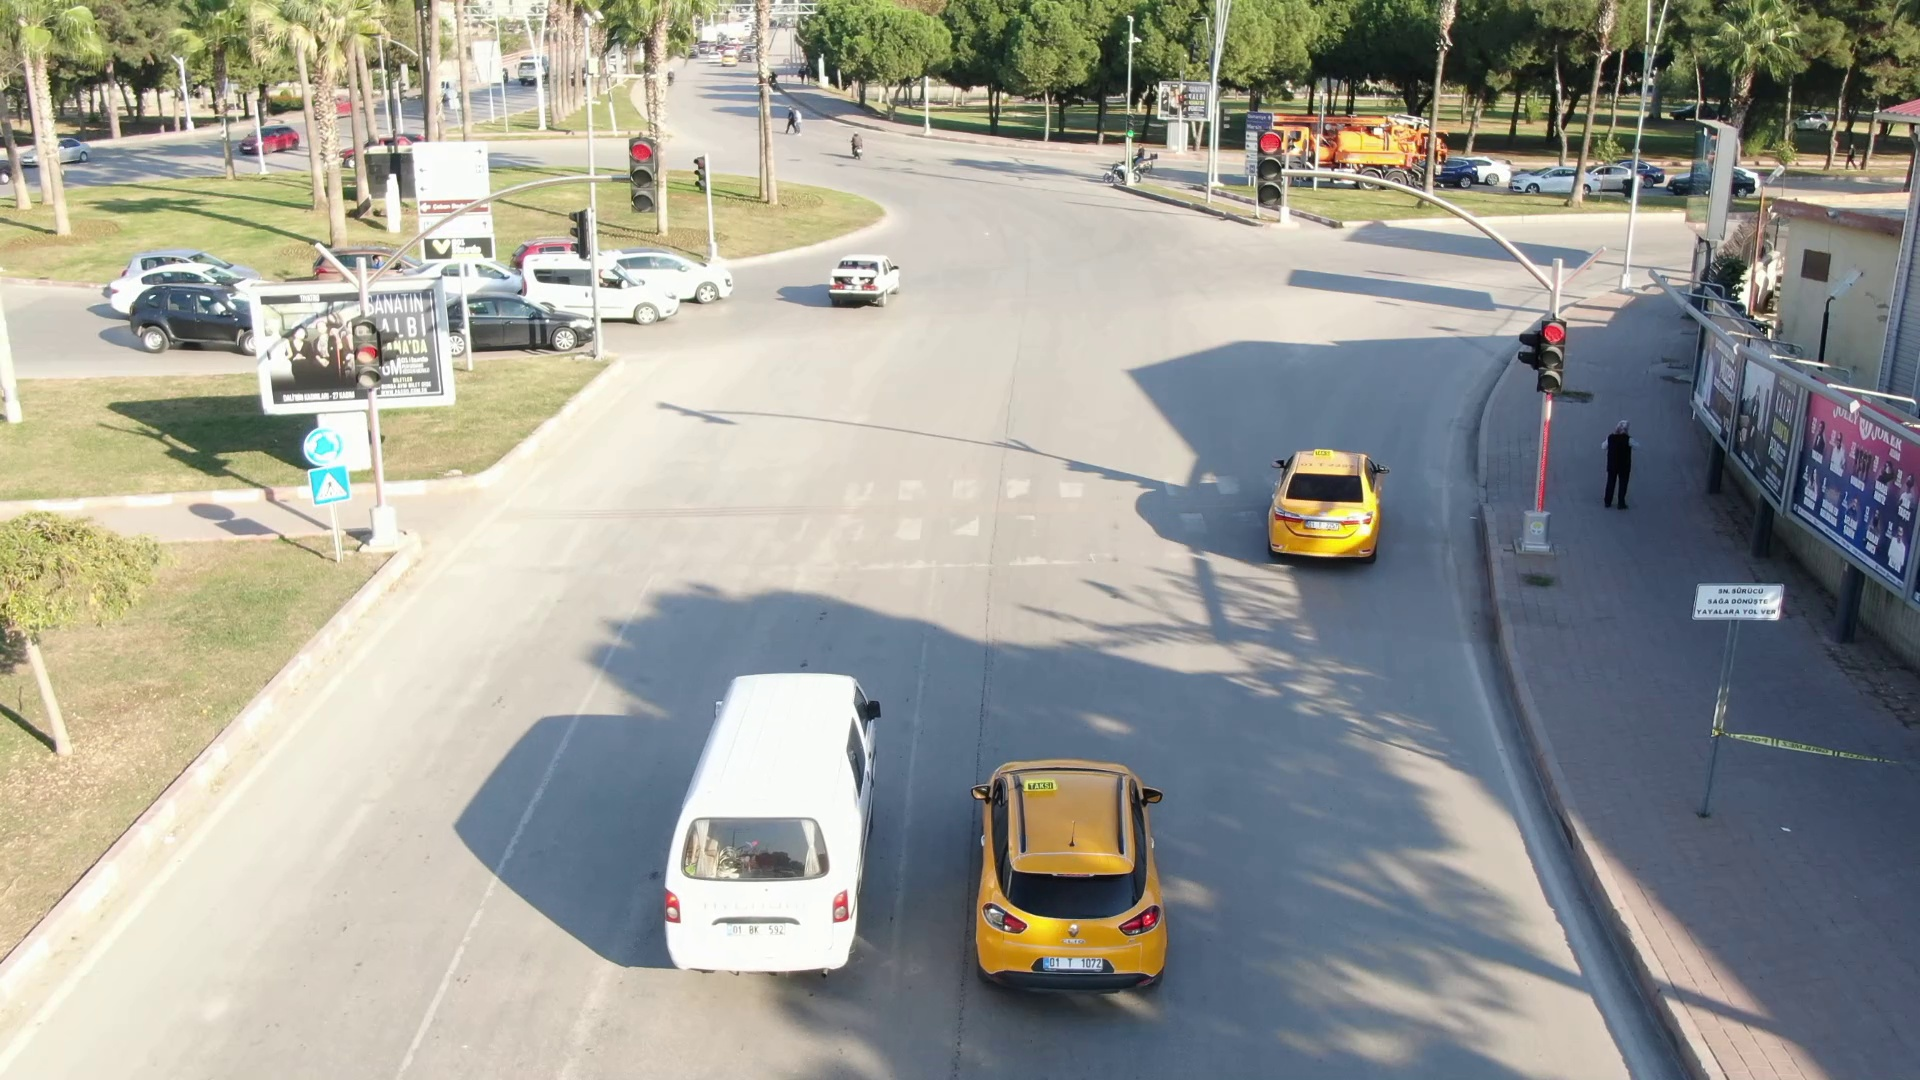car: (668, 641, 888, 990), (941, 737, 1198, 1006), (1247, 417, 1388, 566), (504, 251, 684, 325), (437, 286, 592, 349), (612, 241, 737, 306), (819, 253, 910, 314)
person: (1594, 421, 1645, 523)
